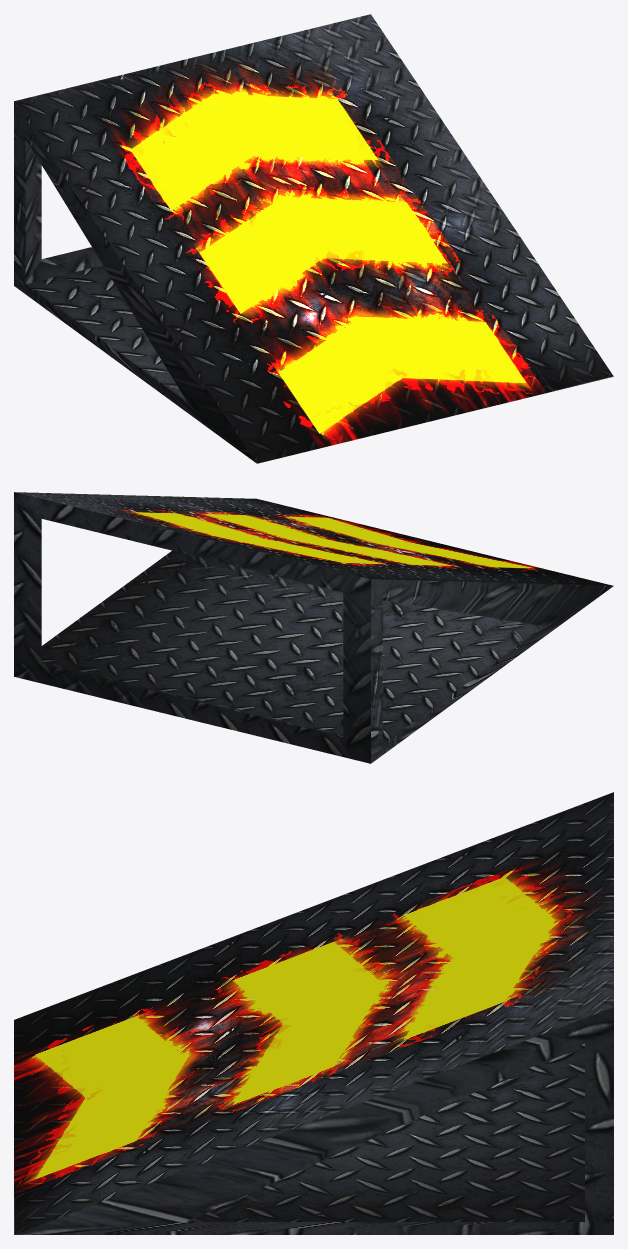
File: ramp.fbx
3 renders of one model, top to bottom at view 1: azimuth 30°, elevation 25°; view 2: azimuth 150°, elevation 25°; view 3: azimuth 270°, elevation 25°, orthographic. The views are drawn at different scales.
Parts seen in each view (by area): view 1: ramp; view 2: ramp; view 3: ramp.
Boxes of the visible parts, left/top/right/bottom form: ramp: left=14, top=14, right=613, bottom=463; ramp: left=14, top=492, right=613, bottom=763; ramp: left=14, top=792, right=613, bottom=1234.
Bounding box in the file's own units: 415 × 205 × 490.
1 material, 1 textured.
